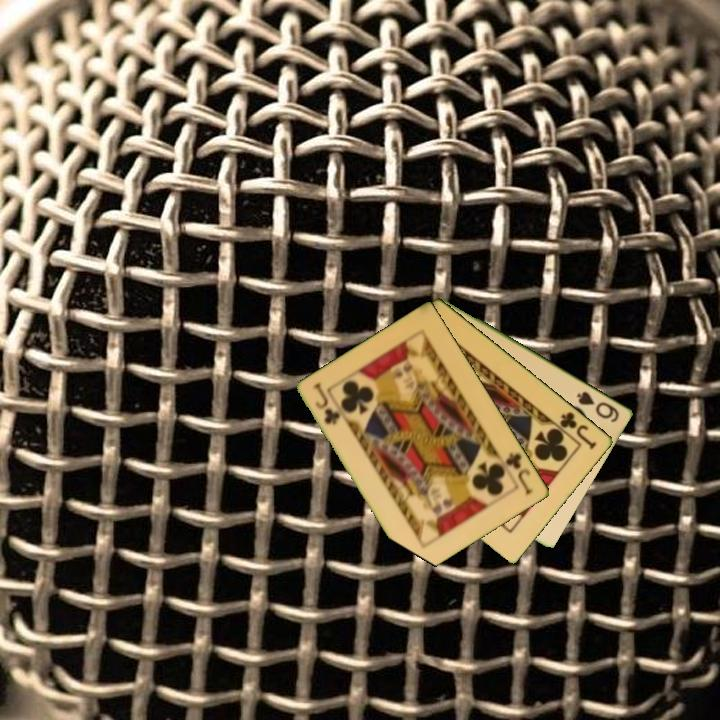6s: (573, 387, 623, 425)
Jc: (556, 408, 600, 452), (502, 449, 536, 497), (309, 380, 343, 428)
